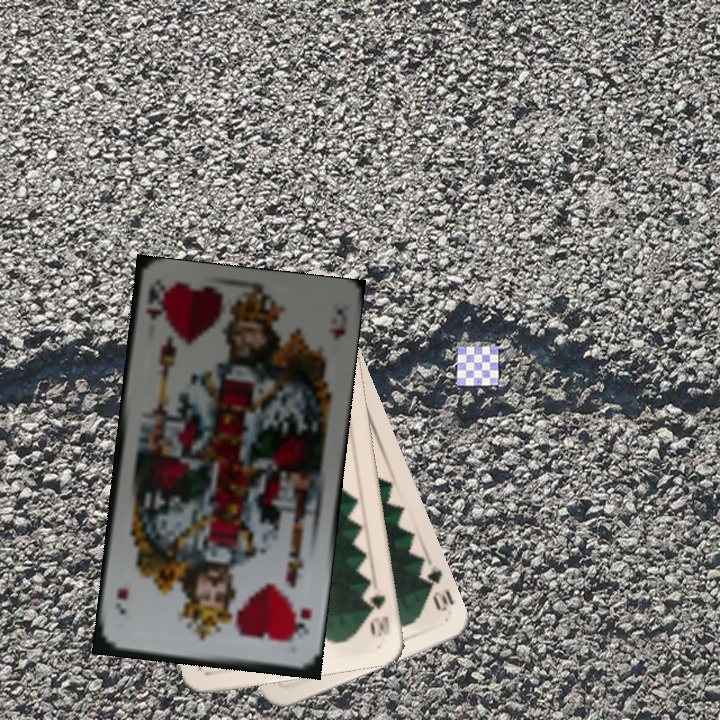G10: (415, 559, 457, 614), (363, 589, 393, 639)
HK: (288, 604, 315, 645), (141, 282, 166, 323)
